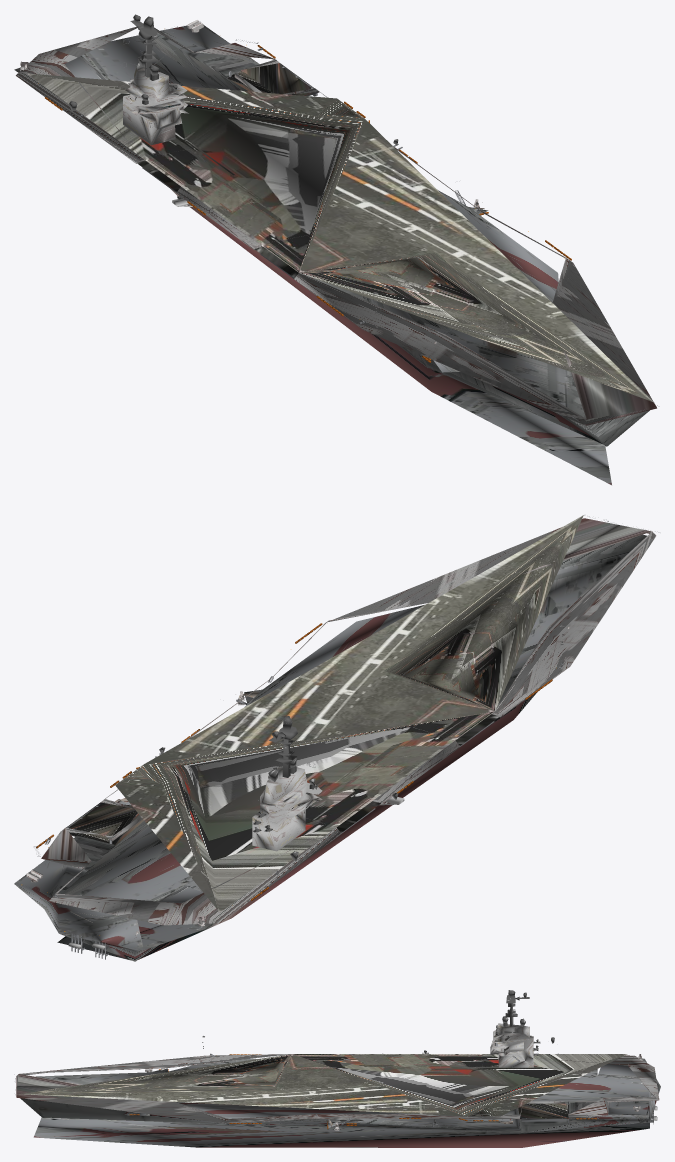
File: ship_carrier-lo.glb
3 views of the same model, one above another, from view 1: azimuth 30°, elevation 25°; view 2: azimuth 150°, elevation 25°; view 3: azimuth 270°, elevation 25° (orthographic). The views are drawn at different scales.
Bounding box in the file's own units: 25.57 × 20.51 × 95.77.
Materials: 10 (10 with a texture image).
